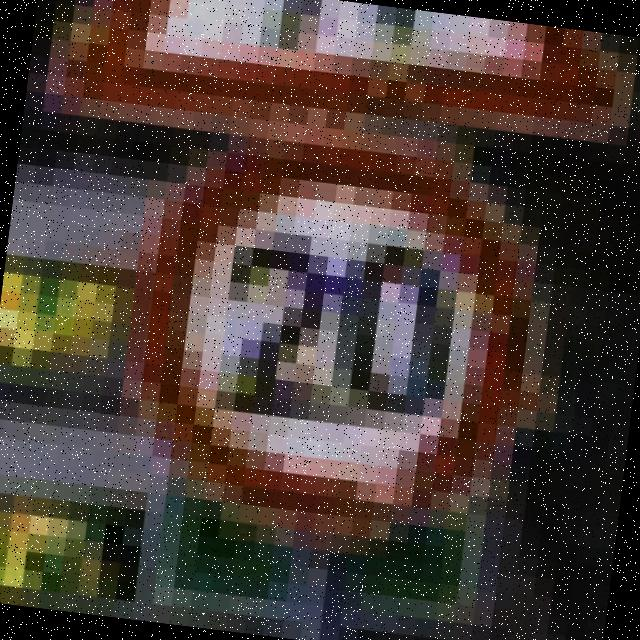Ograniczenie predkosci do 20: (106, 108, 568, 558)
